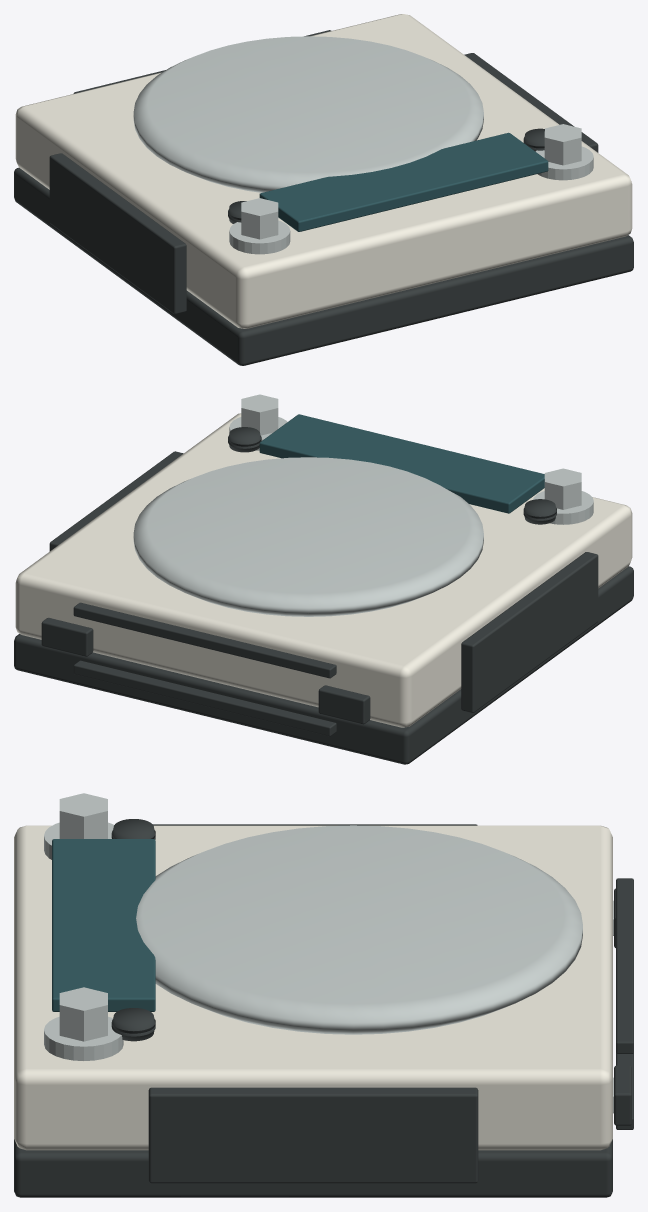
File: tea-garden-and-processing-house-tea-garden-and-process-3e0f4eb5__30784.glb
The picture shows the model from 3 angles, top to bottom: view 1: azimuth 30°, elevation 25°; view 2: azimuth 150°, elevation 25°; view 3: azimuth 270°, elevation 25°; orthographic projection. The views are drawn at different scales.
Parts seen in each view (by area): view 1: tea-garden-and-processing-house-sample-weighing-scale; view 2: tea-garden-and-processing-house-sample-weighing-scale; view 3: tea-garden-and-processing-house-sample-weighing-scale.
Part boxes in pixels (x1,y1,x2,y2): tea-garden-and-processing-house-sample-weighing-scale: (14,14,633,365); tea-garden-and-processing-house-sample-weighing-scale: (14,394,633,764); tea-garden-and-processing-house-sample-weighing-scale: (14,793,633,1197).
Bounding box in the file's own units: 0.322 × 0.095 × 0.3105.
